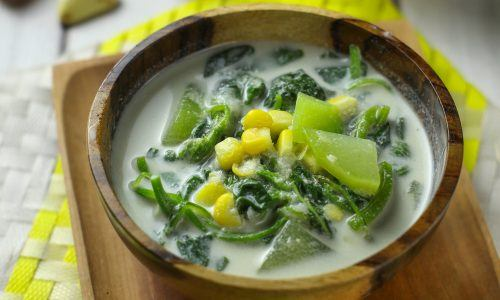Sayur Bayam: (133, 40, 429, 281)
